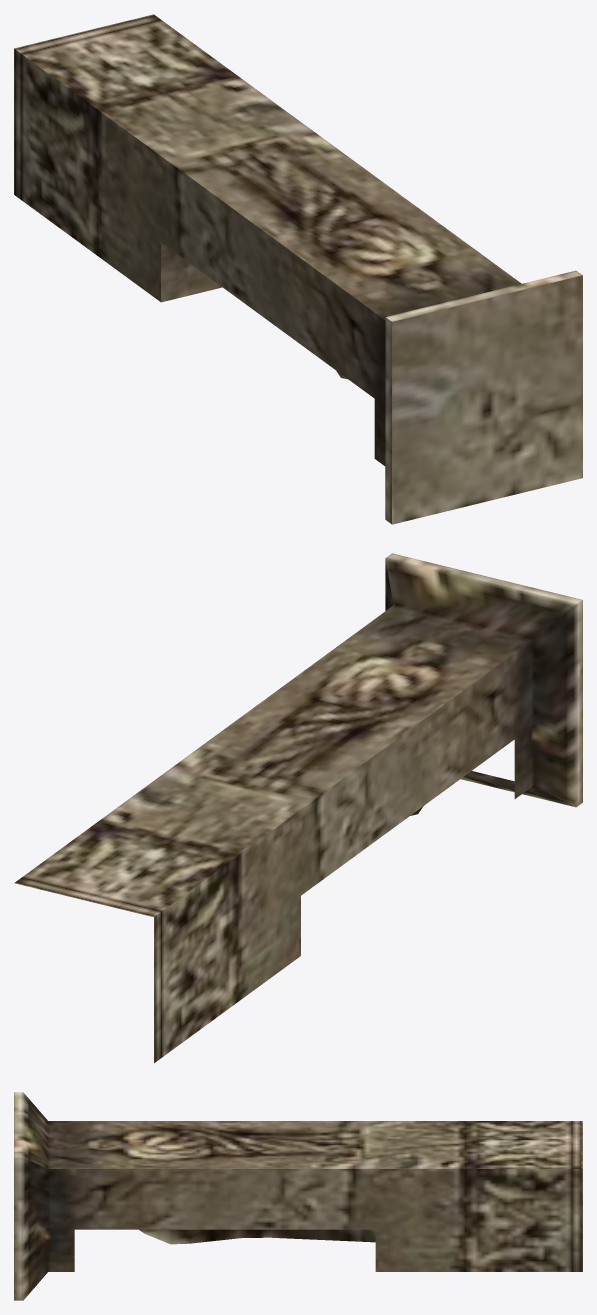
The model's file is StoneStatue01.glb.
3 renders of one model, top to bottom at view 1: azimuth 30°, elevation 25°; view 2: azimuth 150°, elevation 25°; view 3: azimuth 270°, elevation 25°, orthographic. The views are drawn at different scales.
Visible parts, largest first — view 1: model_StoneStatue01; view 2: model_StoneStatue01; view 3: model_StoneStatue01.
Part boxes in pixels (<box>): model_StoneStatue01: <box>14,14,582,524</box>; model_StoneStatue01: <box>14,553,582,1063</box>; model_StoneStatue01: <box>14,1092,582,1300</box>.
Size of the model in its own units: 1.09 by 1.11 by 4.
1 material, 1 textured.
